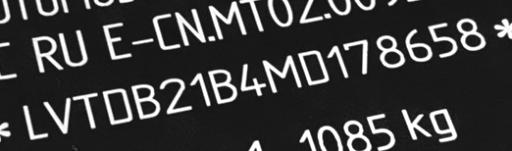letter: (260, 54, 304, 93), (294, 48, 330, 87), (158, 76, 194, 115), (100, 87, 134, 126), (41, 95, 73, 136), (129, 80, 161, 120), (426, 19, 458, 59), (238, 59, 268, 100), (206, 67, 238, 104), (455, 16, 487, 52), (374, 34, 406, 70), (70, 90, 98, 130), (20, 103, 50, 140), (404, 27, 434, 64), (341, 38, 369, 76), (188, 70, 212, 109), (324, 45, 350, 80)
